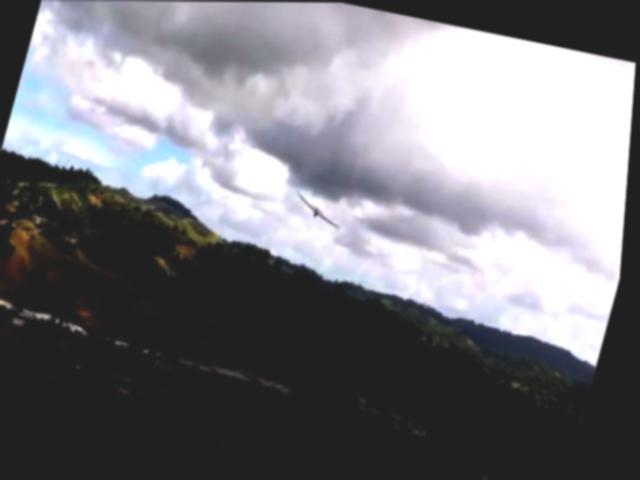iha: (289, 176, 352, 229)
